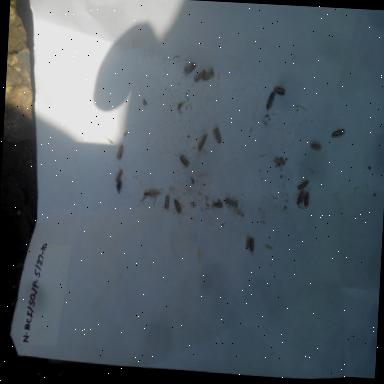pbw: (223, 192, 239, 210), (181, 60, 197, 77), (264, 90, 276, 112), (200, 66, 216, 82), (328, 128, 346, 142), (196, 131, 208, 152), (212, 126, 225, 145), (272, 82, 288, 97), (192, 68, 206, 85), (171, 197, 183, 216), (114, 142, 125, 162), (113, 164, 124, 184), (178, 154, 191, 170), (294, 179, 310, 192), (272, 154, 286, 168), (308, 140, 323, 153), (295, 189, 306, 205), (300, 192, 310, 208), (210, 199, 224, 210), (248, 236, 256, 254), (162, 194, 170, 212), (244, 234, 251, 250), (121, 128, 129, 138), (188, 174, 195, 185), (105, 136, 114, 144)
